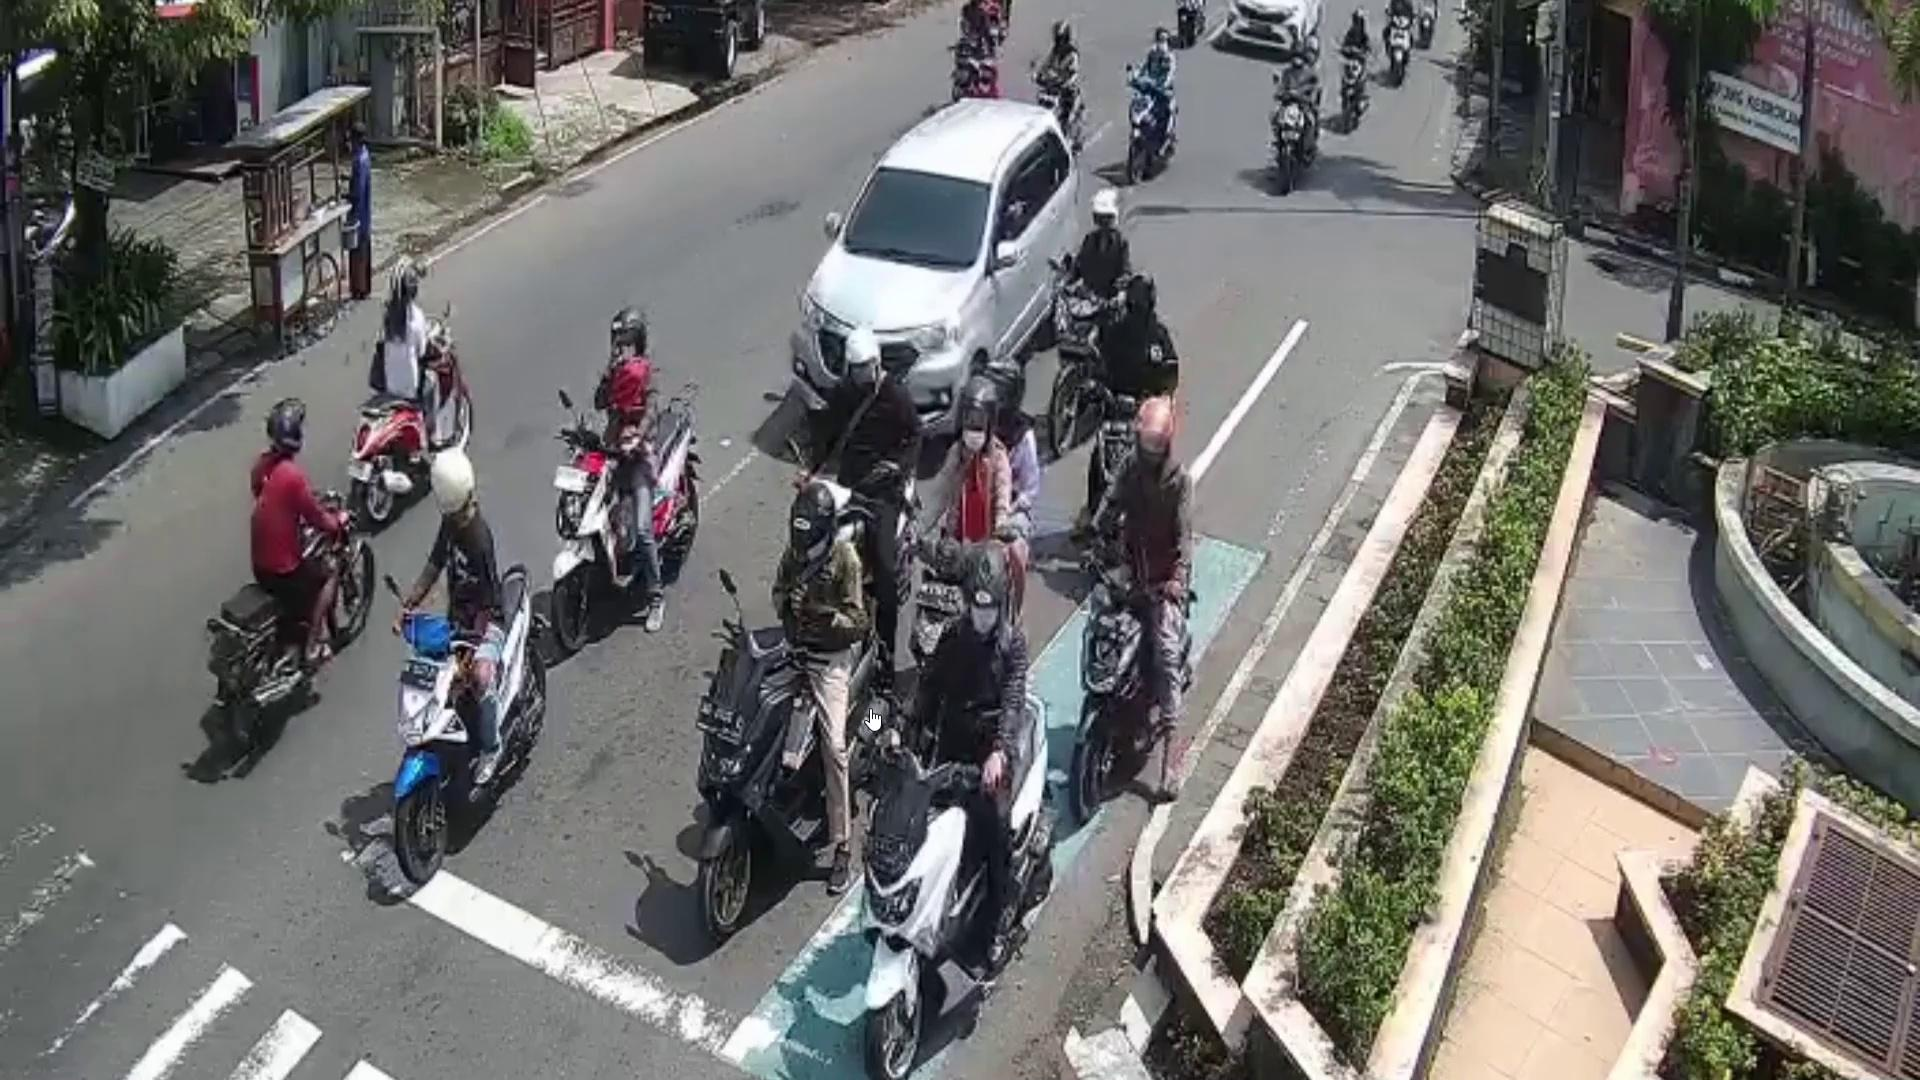car: (791, 102, 1081, 418)
motorbike: (868, 694, 1060, 1080), (699, 607, 885, 943), (389, 560, 546, 890), (211, 487, 376, 748), (545, 405, 692, 650), (1077, 579, 1195, 825), (352, 322, 473, 531), (1274, 88, 1307, 200)
